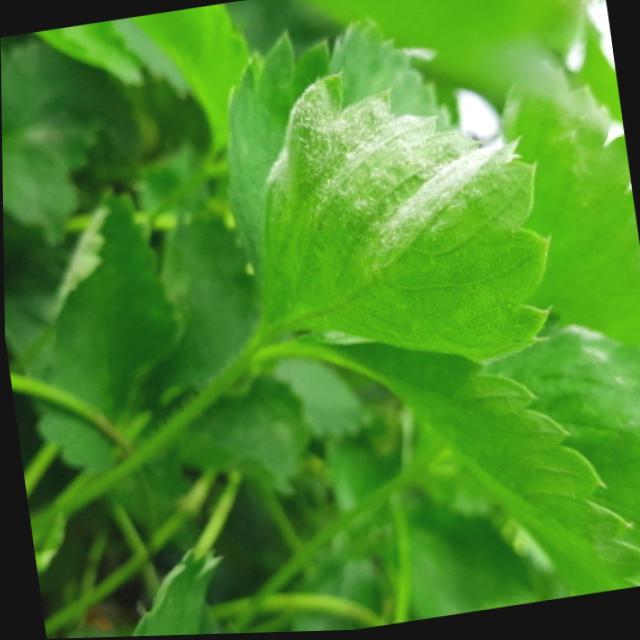Powdery Mildew Leaf: (252, 69, 553, 368)
